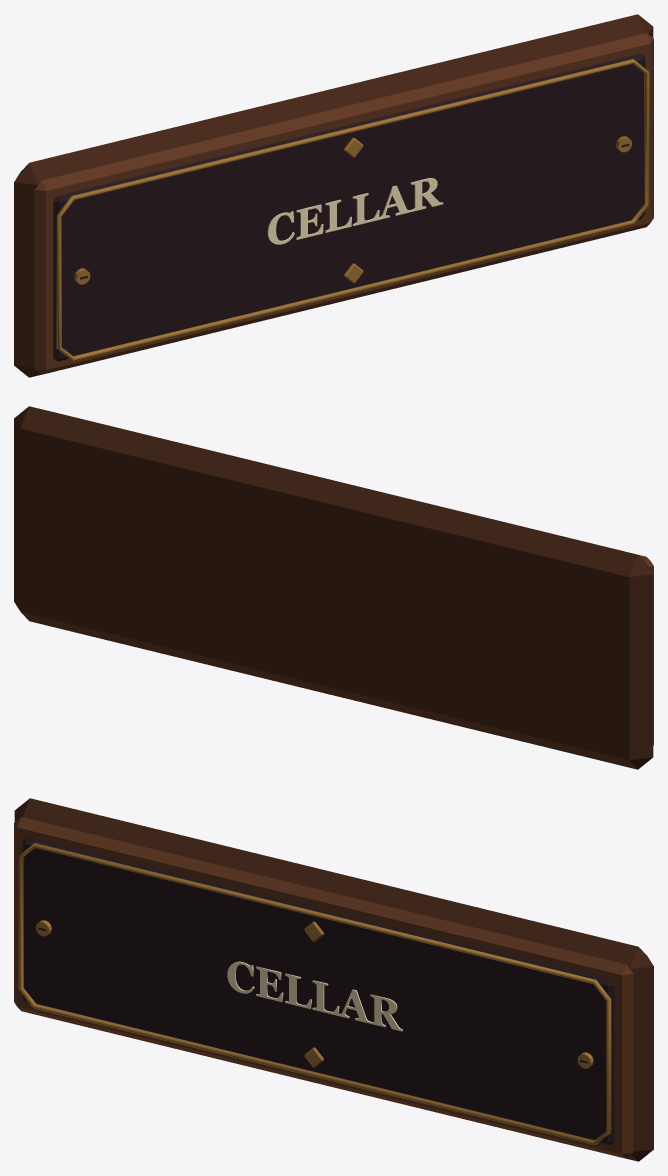
Rendered from CellarRoomSign.glb.
The picture shows the model from 3 angles, top to bottom: view 1: azimuth 30°, elevation 25°; view 2: azimuth 150°, elevation 25°; view 3: azimuth 330°, elevation 25°; orthographic projection.
Parts seen in each view (by area): view 1: DarkEnamelInset.005, RaisedOakBorder.005, CarvedOakPlaque.005, BrassOutline.005, IvorySerifLettering.005; view 2: CarvedOakPlaque.005; view 3: DarkEnamelInset.005, RaisedOakBorder.005, CarvedOakPlaque.005, BrassOutline.005, IvorySerifLettering.005.
Boxes of the visible parts, x1,y1,x2,y2 form: DarkEnamelInset.005: [53, 53, 645, 361]; RaisedOakBorder.005: [34, 33, 653, 374]; CarvedOakPlaque.005: [14, 14, 653, 377]; BrassOutline.005: [56, 59, 649, 361]; IvorySerifLettering.005: [267, 178, 443, 244]; CarvedOakPlaque.005: [14, 406, 653, 769]; DarkEnamelInset.005: [22, 837, 614, 1145]; RaisedOakBorder.005: [14, 817, 633, 1158]; CarvedOakPlaque.005: [14, 798, 653, 1161]; BrassOutline.005: [18, 843, 611, 1145]; IvorySerifLettering.005: [227, 961, 402, 1031].
Size of the model in its own units: 4.2 by 1.35 by 0.346.
